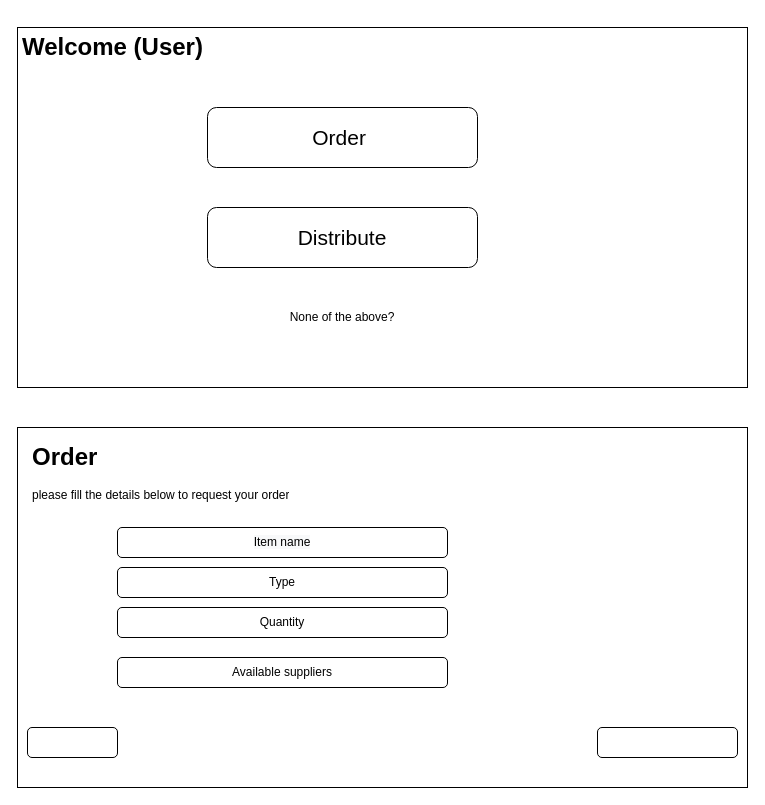
Some shapes in this 765 by 805 pixel diagram are drawn without their labels. The shapes that lost their labels are listed below. From the top down, each one's box as (x1, y1, x2, y2) in pixels, then its label:
(26, 726, 118, 758): Submit
(596, 726, 738, 758): Cancel
